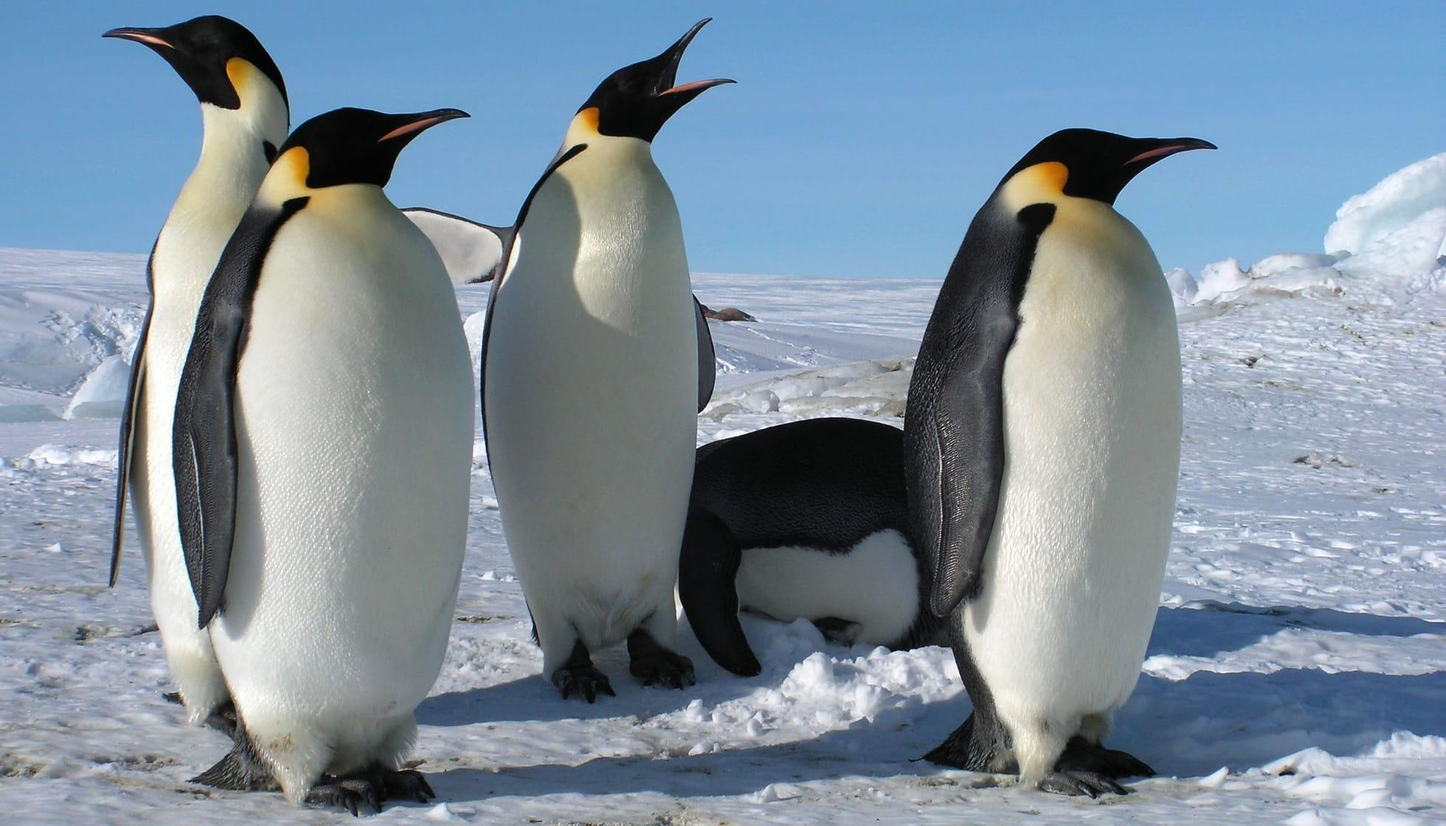Penguin: (400, 17, 737, 702), (173, 107, 471, 813), (904, 127, 1218, 796), (101, 15, 289, 726), (679, 417, 950, 678)
